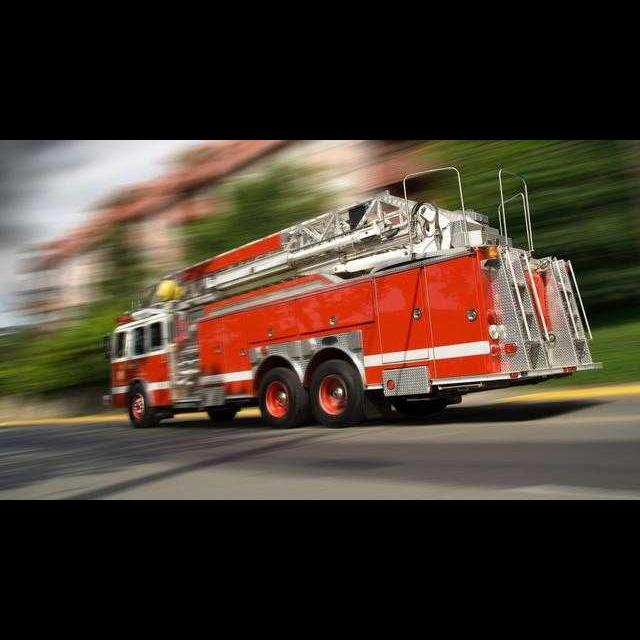emergency: (102, 167, 604, 429)
